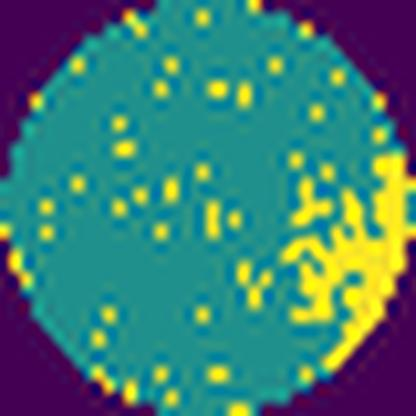Edge-Loc: (293, 145, 415, 372)
